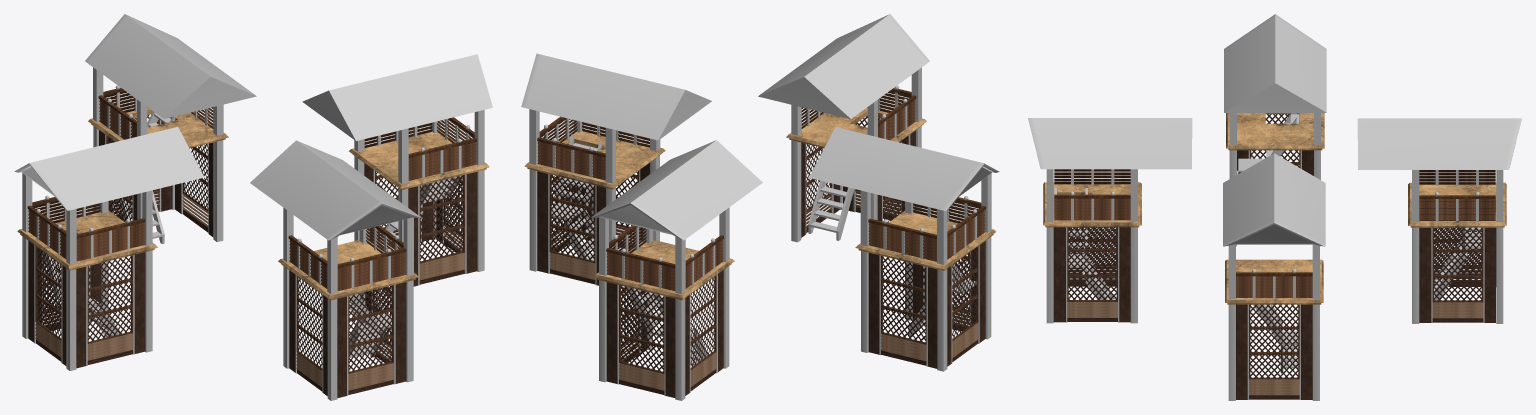
The model's file is Surau Balcony.fbx.
The picture shows the model from 3 angles, left to right: view 1: azimuth 30°, elevation 25°; view 2: azimuth 150°, elevation 25°; view 3: azimuth 270°, elevation 25°; orthographic projection. The views are drawn at different scales.
Parts seen in each view (by area): view 1: Pyramid009, Pyramid013, Pyramid012, Pyramid011, Box5520, Plane057, Plane052, Plane053, Box6512, Box6593, Box6674, Plane056 (+34 smaller); view 2: Pyramid009, Pyramid011, Pyramid012, Pyramid013, Box5520, Plane051, Plane059, Plane058, Box6674, Box6593, Box6512, LTypeStair016 (+34 smaller); view 3: Pyramid012, Pyramid013, Pyramid011, Pyramid009, Box6593, Plane050, Plane061, Plane054, Box5520, Box6674, Box6512, Box6719 (+19 smaller).
Part boxes in pixels (x1,y1,x2,y2): Pyramid009: [302, 54, 492, 140]; Pyramid013: [85, 14, 256, 118]; Pyramid012: [14, 127, 204, 210]; Pyramid011: [250, 140, 421, 240]; Box5520: [349, 131, 489, 190]; Plane057: [88, 256, 130, 340]; Plane052: [420, 175, 462, 260]; Plane053: [349, 285, 391, 370]; Box6512: [278, 240, 418, 300]; Box6593: [17, 211, 157, 270]; Box6674: [88, 107, 228, 148]; Plane056: [37, 247, 61, 337]; Pyramid009: [521, 53, 711, 140]; Pyramid011: [758, 14, 929, 118]; Pyramid012: [809, 127, 999, 210]; Pyramid013: [591, 140, 762, 240]; Box5520: [524, 131, 665, 189]; Plane051: [551, 175, 594, 260]; Plane059: [621, 285, 663, 370]; Plane058: [883, 256, 925, 341]; Box6674: [594, 239, 734, 300]; Box6593: [855, 211, 996, 270]; Box6512: [786, 107, 926, 147]; LTypeStair016: [808, 180, 854, 240]; Pyramid012: [1224, 14, 1326, 112]; Pyramid013: [1357, 118, 1521, 169]; Pyramid011: [1028, 118, 1192, 169]; Pyramid009: [1223, 153, 1325, 246]; Box6593: [1226, 113, 1324, 150]; Plane050: [1250, 304, 1298, 377]; Plane061: [1434, 227, 1481, 300]; Plane054: [1068, 227, 1116, 299]; Box5520: [1225, 259, 1323, 304]; Box6674: [1408, 182, 1506, 227]; Box6512: [1043, 182, 1141, 227]; Box6719: [1419, 227, 1431, 322].
Size of the model in its own units: 6924 by 2878 by 6920.
